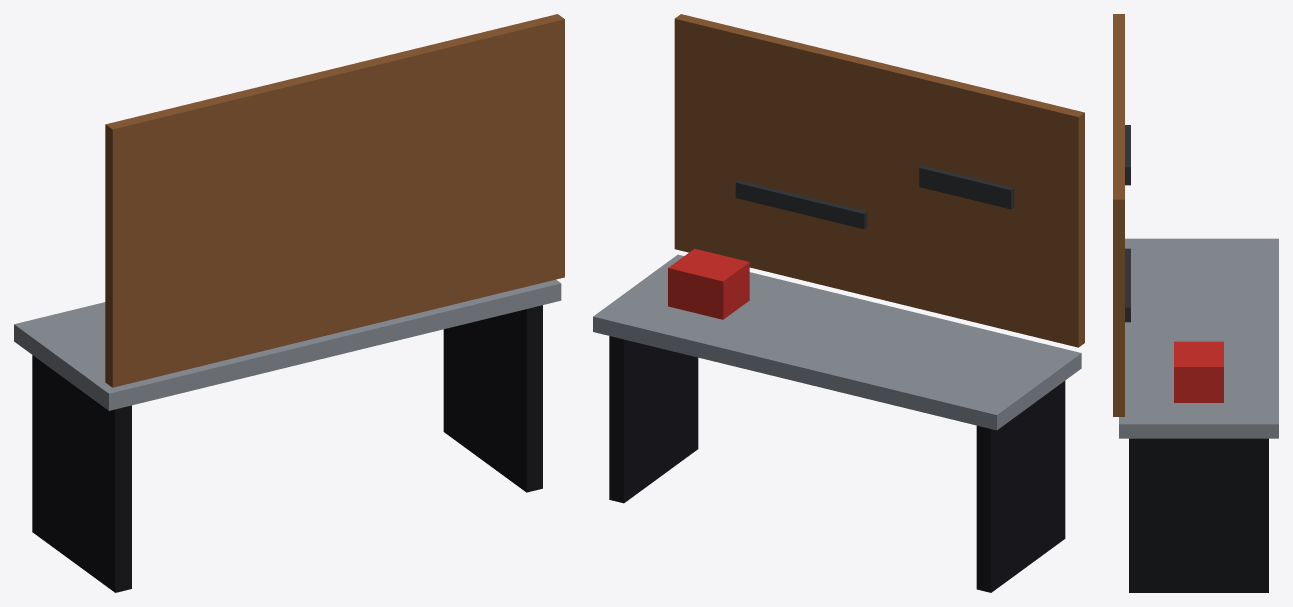
File: int_workbench.glb
3 renders of one model, left to right at view 1: azimuth 30°, elevation 25°; view 2: azimuth 150°, elevation 25°; view 3: azimuth 270°, elevation 25°, orthographic. The views are drawn at different scales.
Visible parts, largest first — view 1: int_workbench__mesh; view 2: int_workbench__mesh; view 3: int_workbench__mesh.
Part boxes in pixels (x1,y1,x2,y2): int_workbench__mesh: [14, 14, 564, 592]; int_workbench__mesh: [593, 14, 1084, 592]; int_workbench__mesh: [1113, 14, 1278, 592].
Size of the model in its own units: 2.2 by 2.2 by 0.83.
